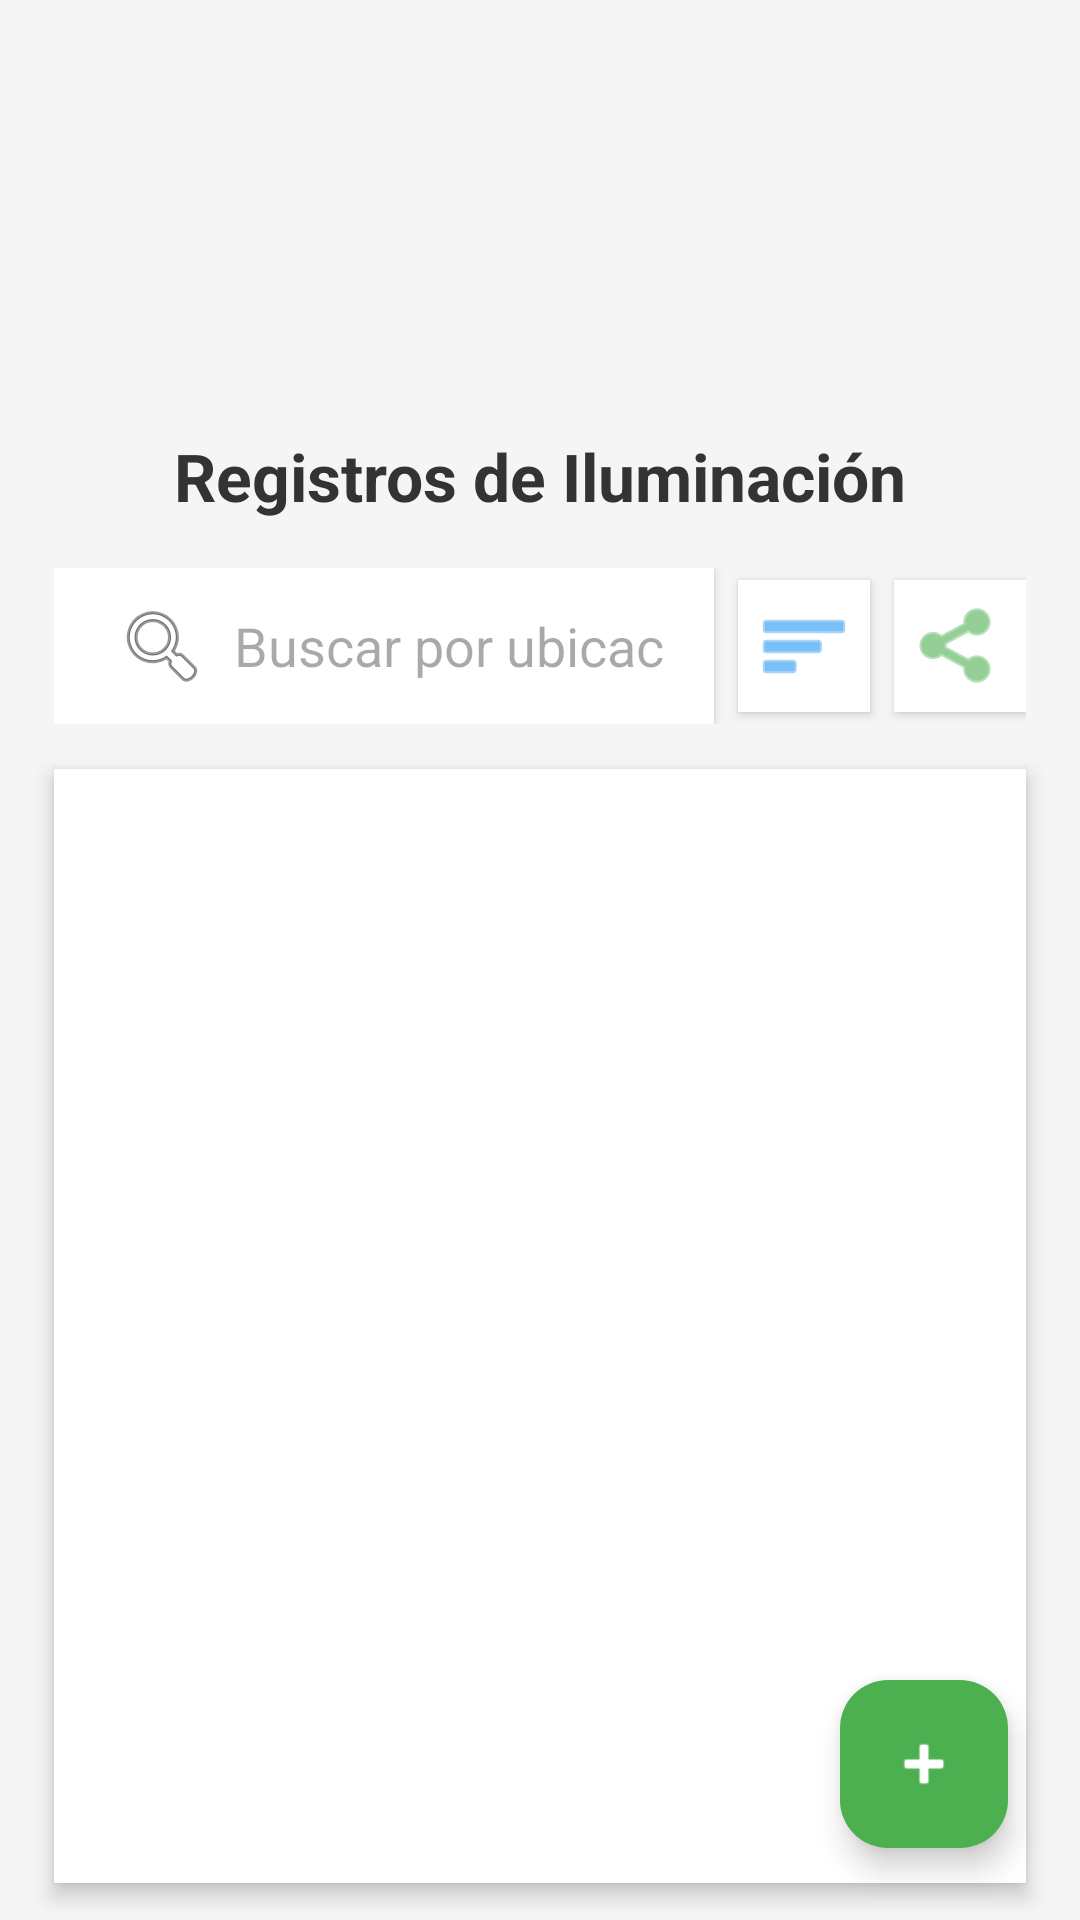

Where to tap for icons on this 1080 × 1920 app screen, as point (x, y):
Agregar registro de iluminación: point (924, 1764)
Compartir reporte: point (960, 646)
Ordenar registros: point (804, 646)
